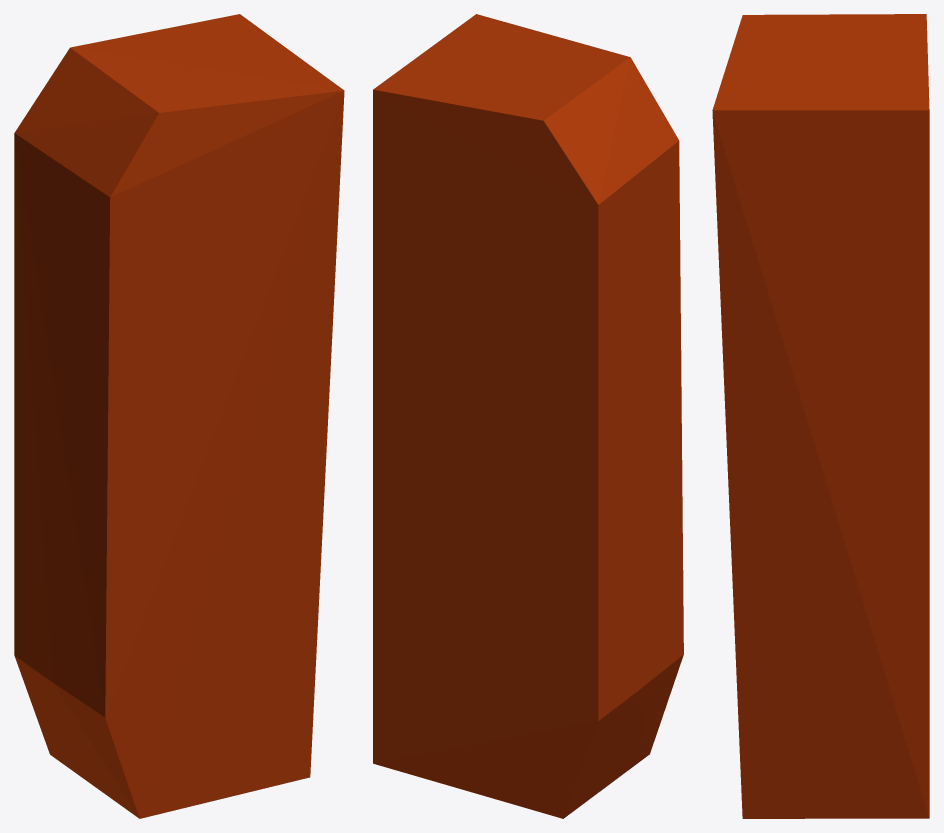
The picture shows the model from 3 angles, left to right: view 1: azimuth 30°, elevation 25°; view 2: azimuth 150°, elevation 25°; view 3: azimuth 270°, elevation 25°; orthographic projection. The views are drawn at different scales.
Size of the model in its own units: 4.07 by 12.04 by 3.25.
